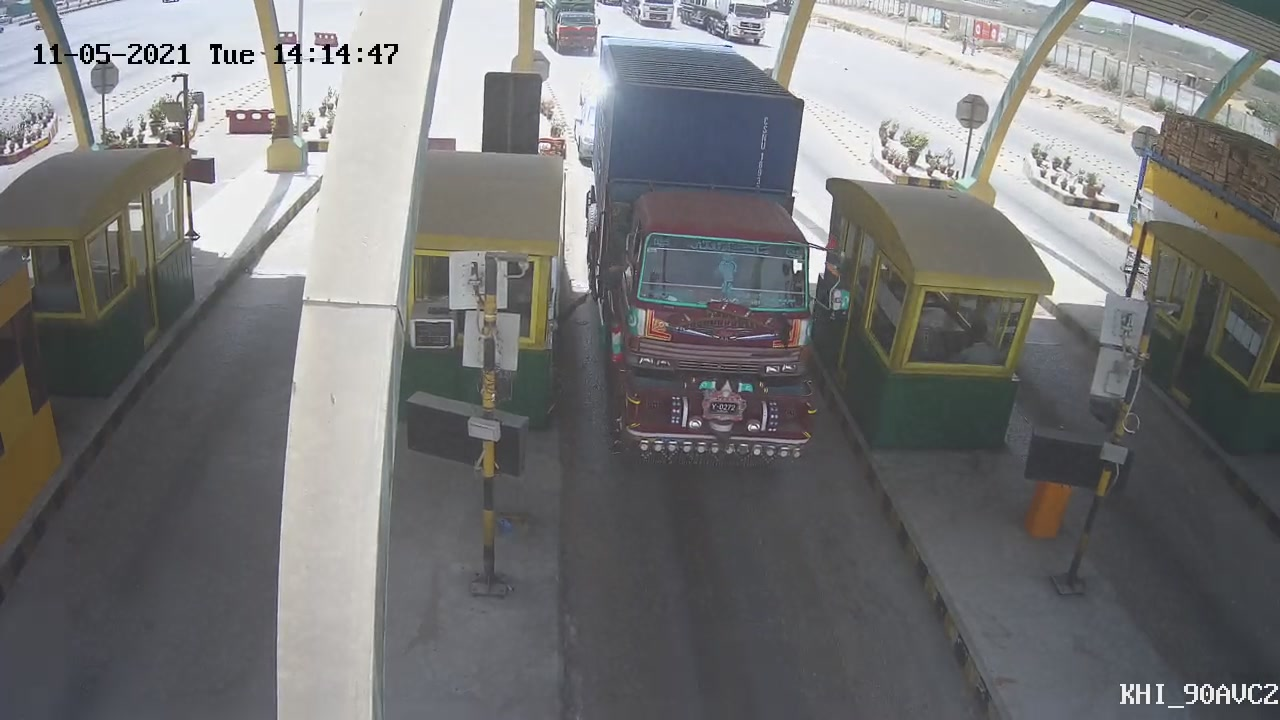F6: (590, 36, 821, 482)
